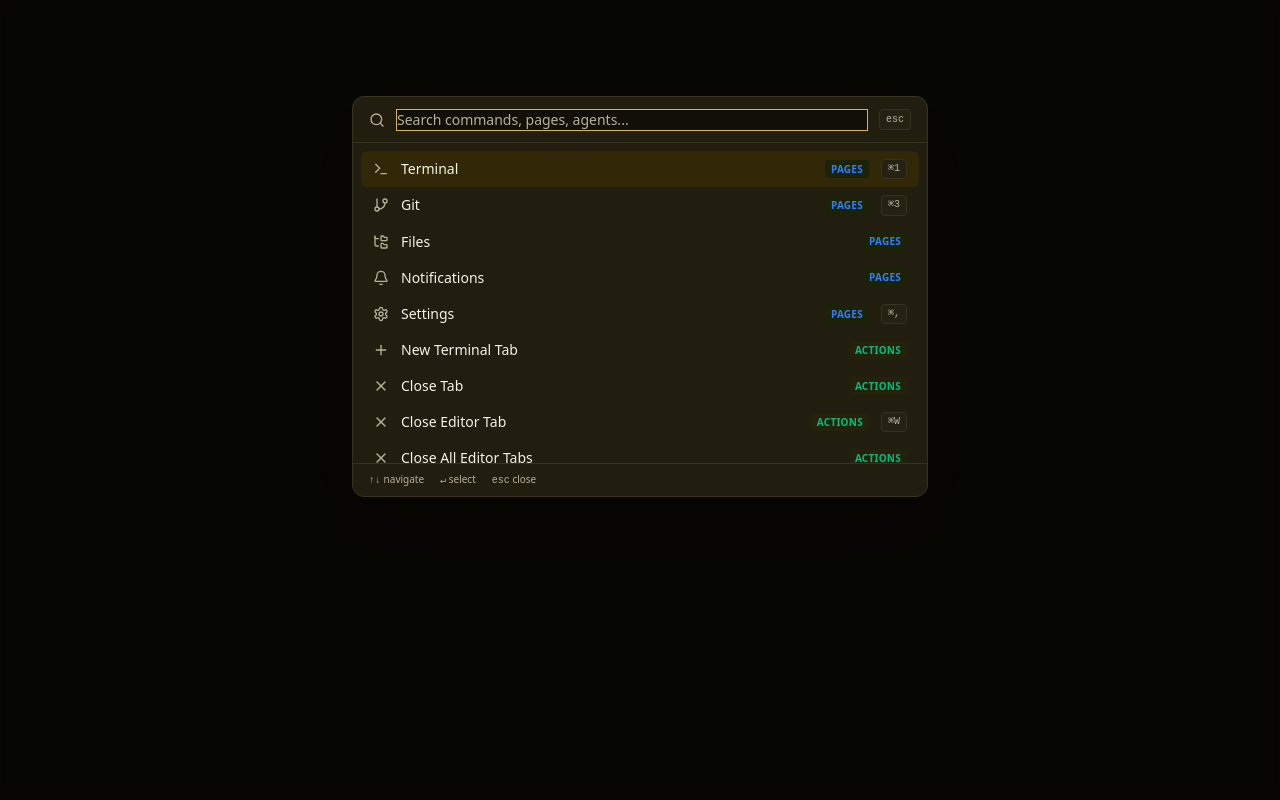
CommandPalette › shows no-results message for unmatched query
Step 1. Type "xyznotarealcommand" into the dropdown with placeholder "Search commands, pages, agents..." → [632, 120], box left=397, top=110, right=867, bottom=130
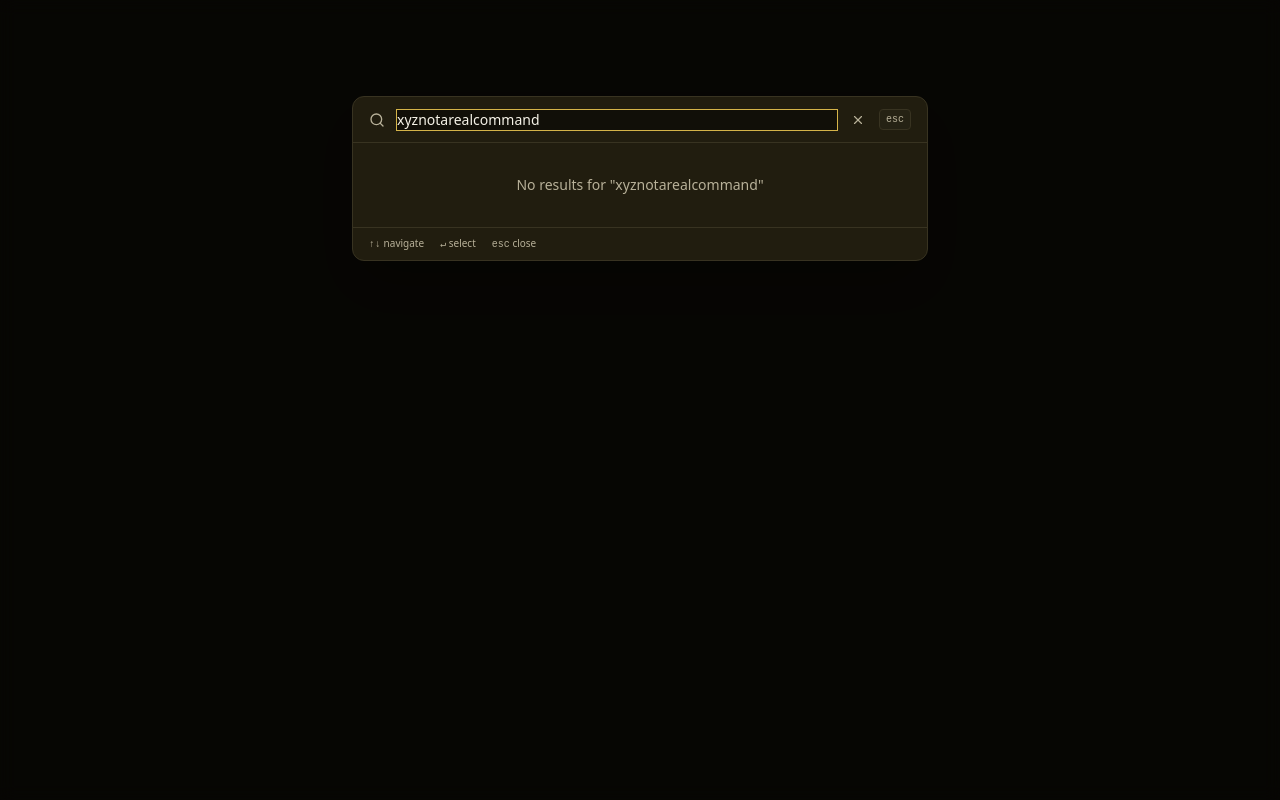
Now the list item "No results for \"xyznotarealcommand\"" is shown, box left=516, top=175, right=764, bottom=194
